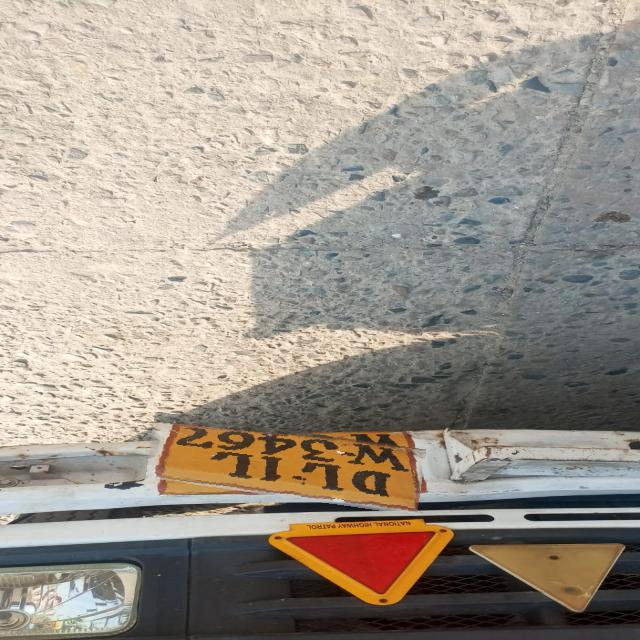License-plate: (147, 421, 425, 506)
